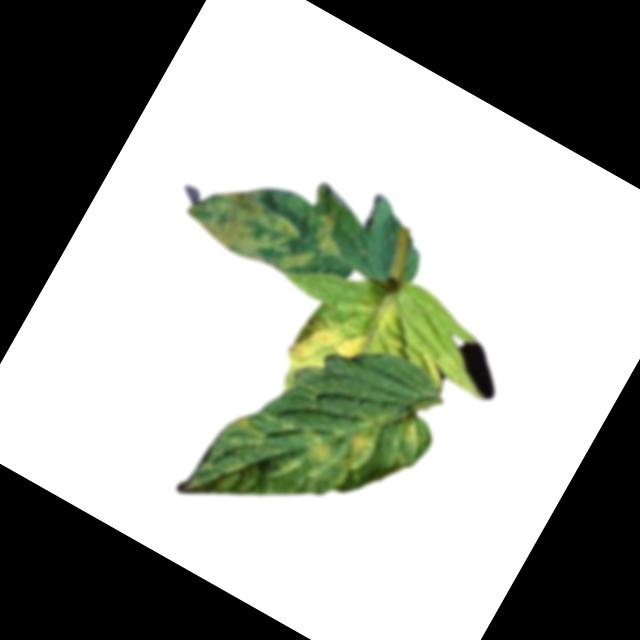Leaf_Mold: (179, 131, 364, 298), (266, 299, 373, 417), (292, 399, 389, 497), (379, 411, 435, 474)
